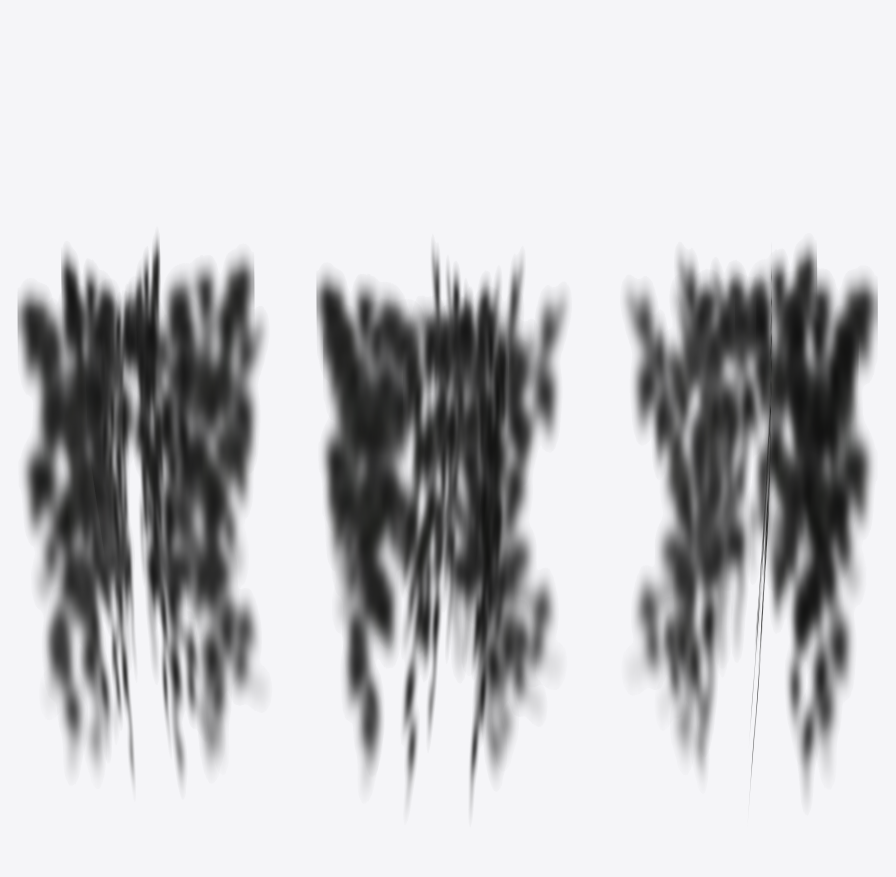
File: day-leo.glb
3 renders of one model, left to right at view 1: azimuth 30°, elevation 25°; view 2: azimuth 150°, elevation 25°; view 3: azimuth 270°, elevation 25°, orthographic.
Parts seen in each view (by area): view 1: vine; view 2: vine; view 3: vine.
Part boxes in pixels (left/top/right/bottom): vine: left=17, top=237, right=264, bottom=783; vine: left=316, top=248, right=567, bottom=806; vine: left=625, top=243, right=877, bottom=795.
Size of the model in its own units: 0.4 by 1.2 by 0.401.
1 material, 1 textured.
